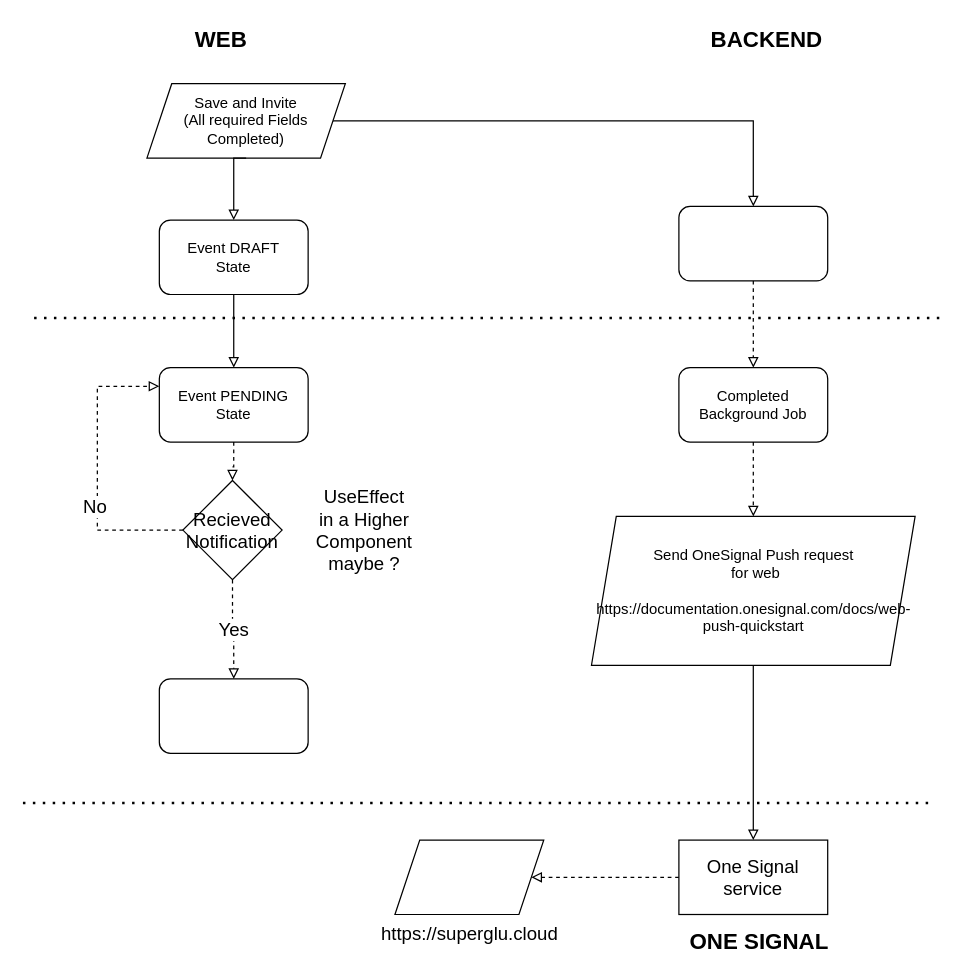
This 962x976 diagram has some shape labels left out. Here are the shapes that lost their labels. From the top down, the centre of each, then its label:
the point at 753,243: Trigger InviteUsers JOB
the point at 233,715: Event Invited Status
the point at 469,876: Send Notificaton
